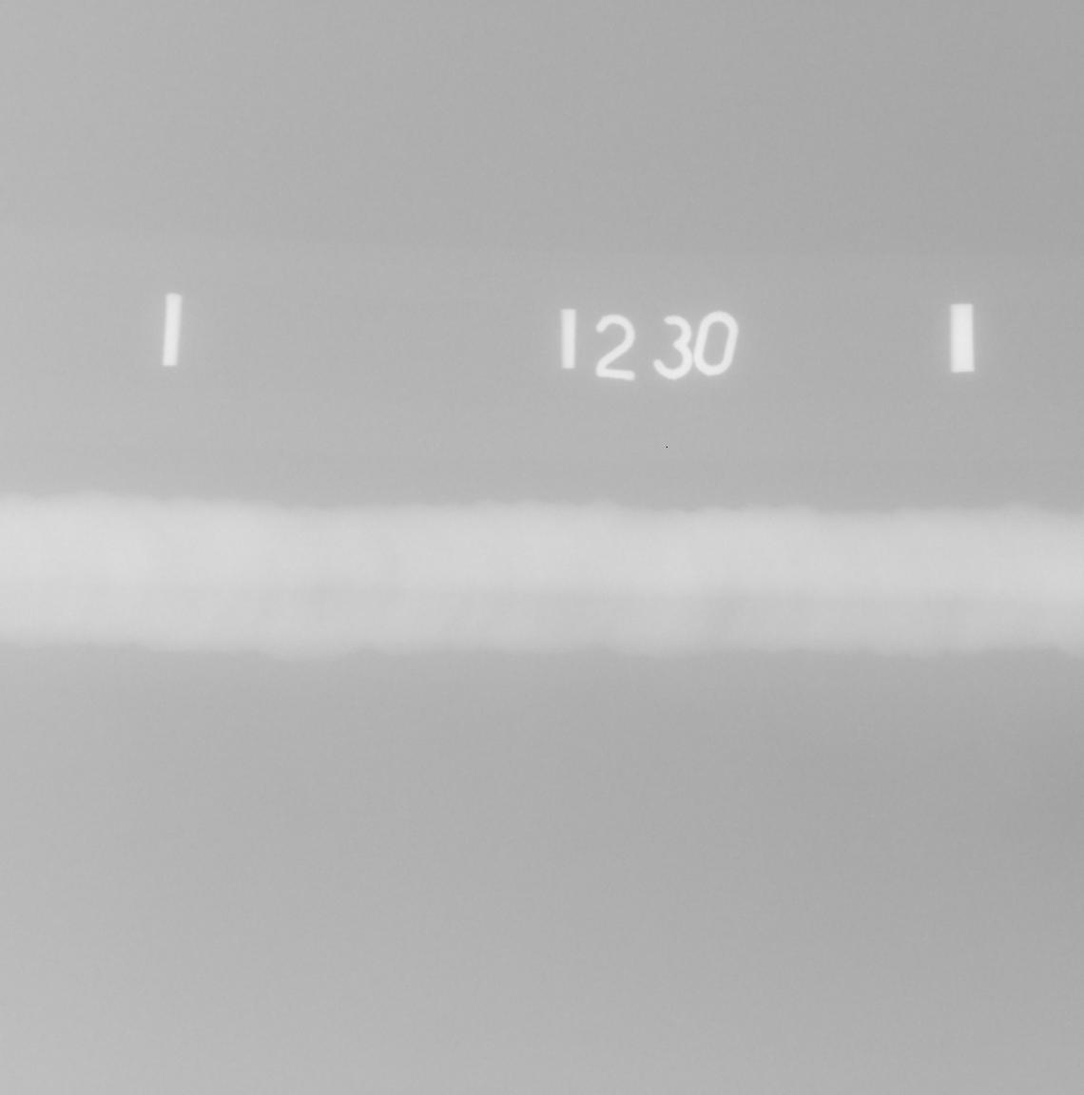Inclusion: (69, 628, 96, 631)
Pore/Porosity: (506, 598, 511, 604)
